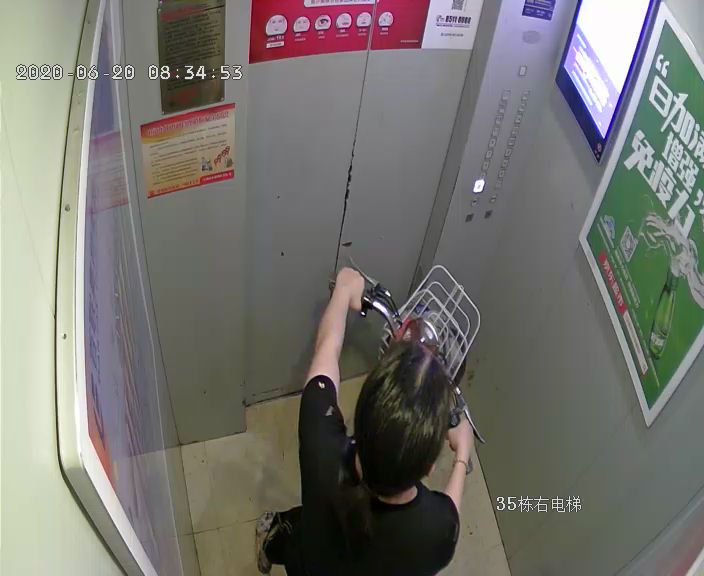Electric-bicycle: (326, 257, 491, 475)
